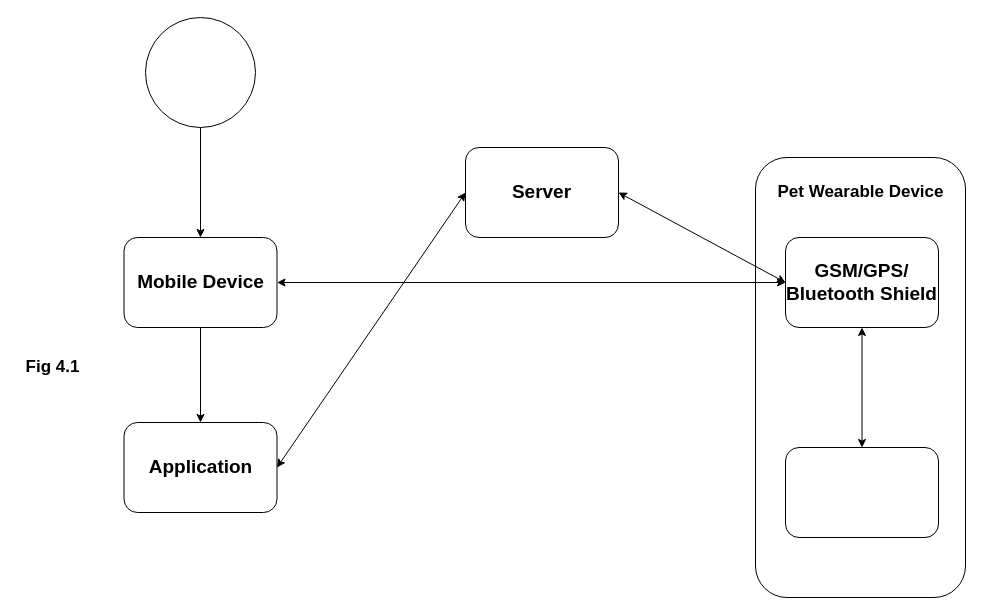
This 983x615 diagram has some shape labels left out. The centre of each missing label's shape, as x and y in pixels:
"Arduino" goes at [861,492].
"User" goes at [200,72].
